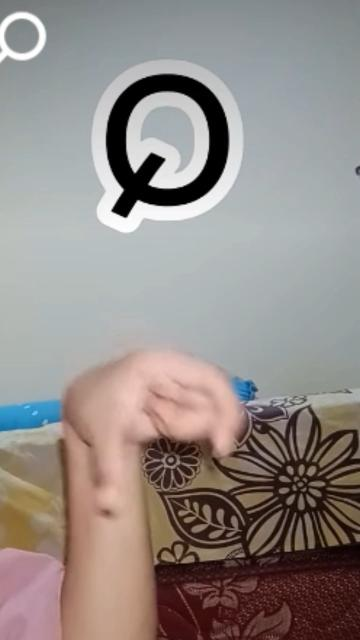Q: (52, 340, 246, 522)
